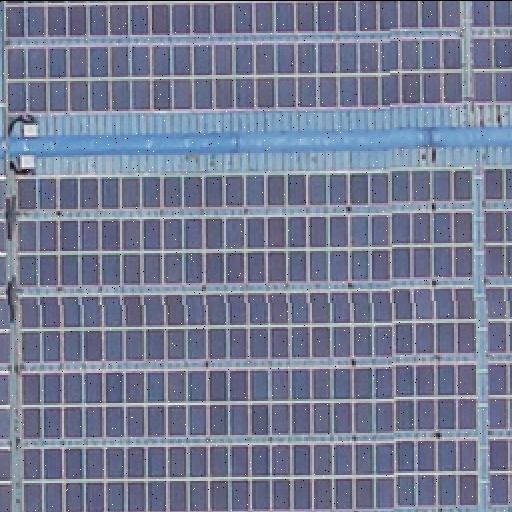solar-panel: (0, 164, 512, 512), (0, 0, 512, 116)
